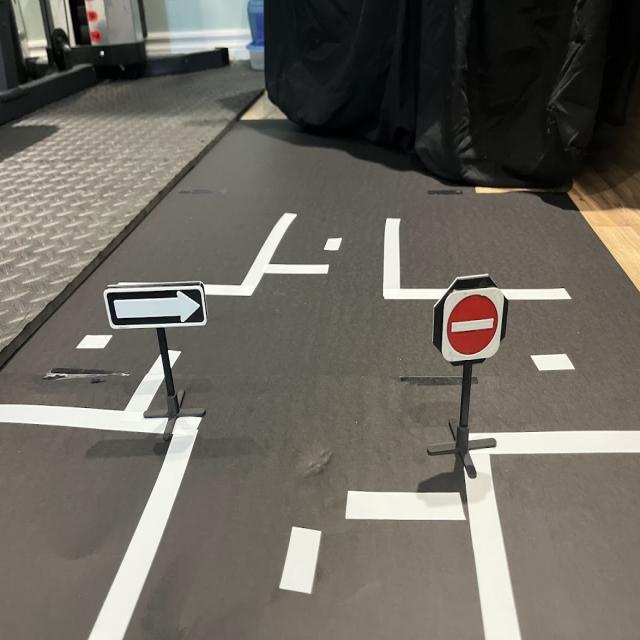sign_noentry: (445, 291, 504, 360)
sign_oneway_right: (102, 281, 211, 332)
